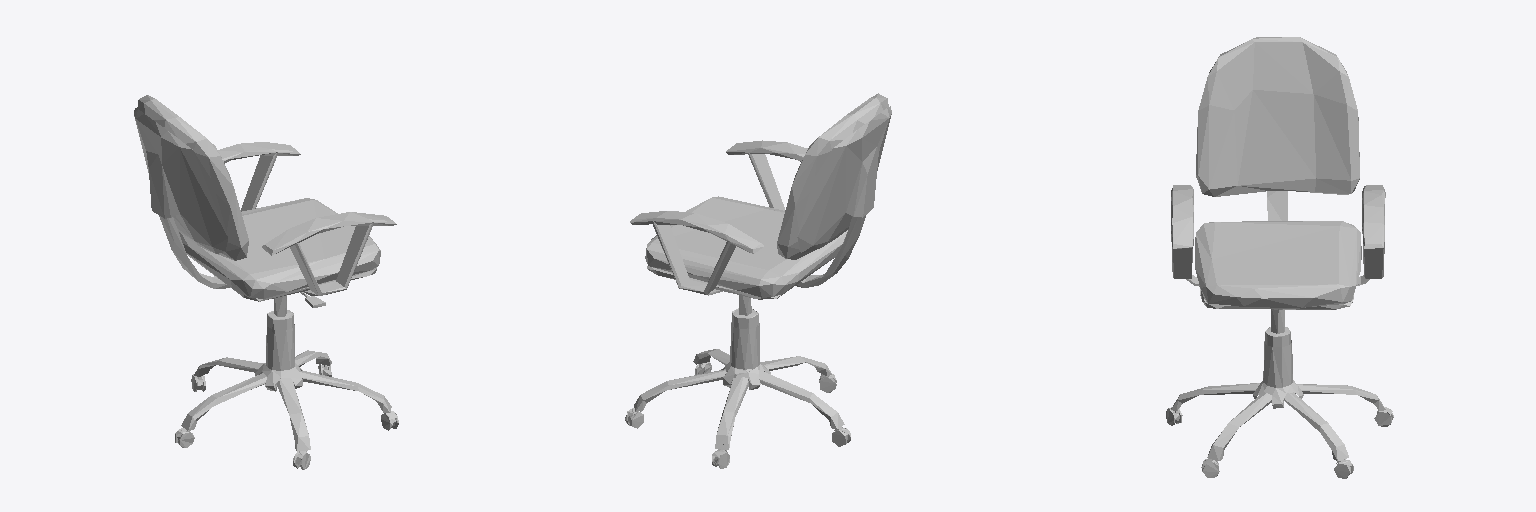
Rendered from cadeira6.obj.
3 renders of one model, left to right at view 1: azimuth 30°, elevation 25°; view 2: azimuth 150°, elevation 25°; view 3: azimuth 270°, elevation 25°, orthographic.
Visible parts, largest first — view 1: Chair.003_Chair.004; view 2: Chair.003_Chair.004; view 3: Chair.003_Chair.004.
Boxes of the visible parts, box(x1,y1,x2,y2) form: Chair.003_Chair.004: box(134, 95, 398, 469); Chair.003_Chair.004: box(625, 93, 891, 468); Chair.003_Chair.004: box(1166, 37, 1393, 478).
Bounding box in the file's own units: 4.93 × 7.52 × 4.52.